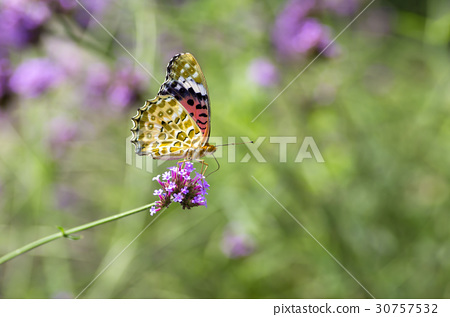Argyreus hyperbius: (127, 44, 253, 191)
butterfly: (129, 46, 255, 193)
